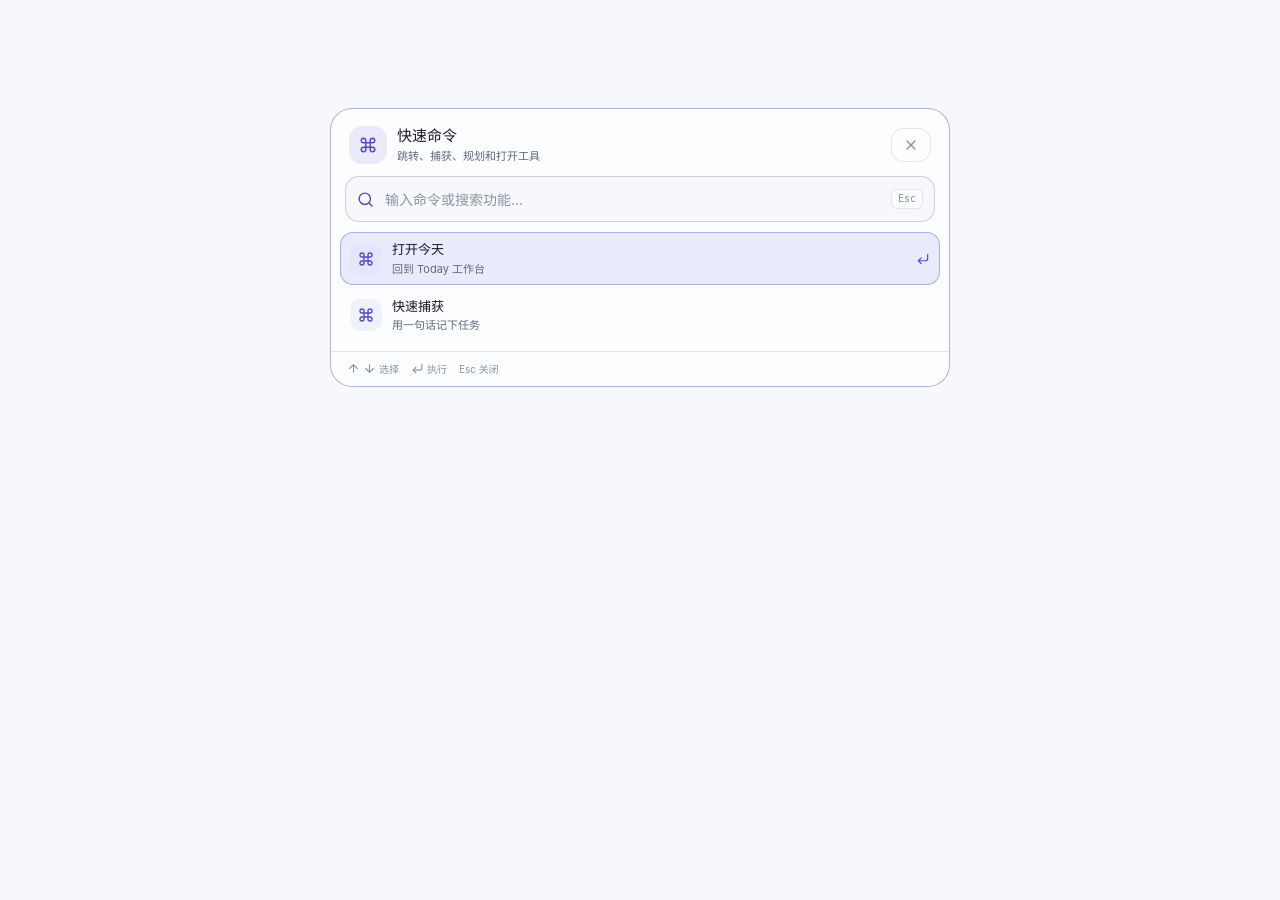
Test case: CommandPalette › focuses the search input and filters commands by label or keyword
Type "capture" into the dropdown named "搜索快速命令" at (632, 199), box [383, 189, 882, 210]
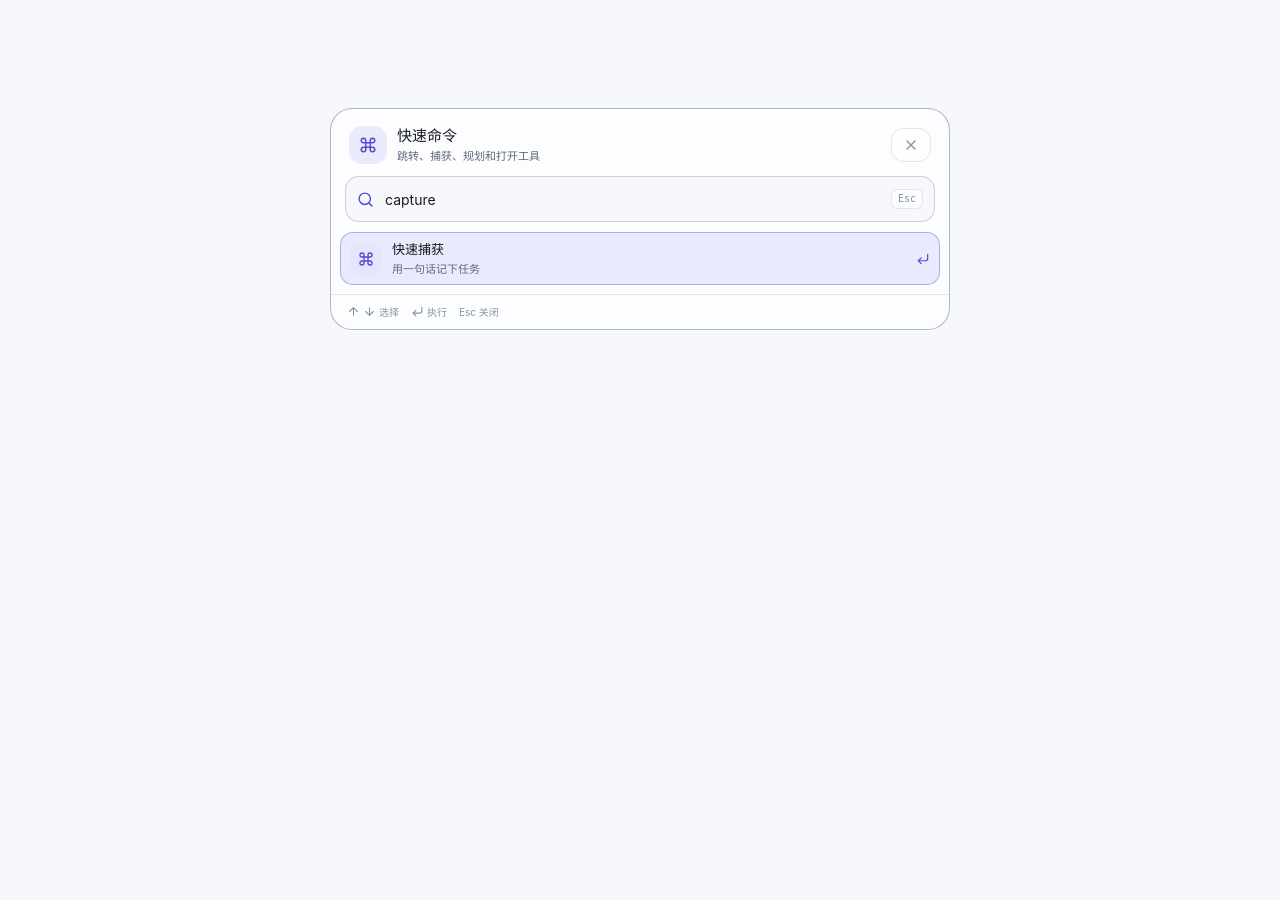
Expected: the option "快速捕获 用一句话记下任务" is shown, [340, 232, 940, 285]
Expected: the option "打开今天" is gone
